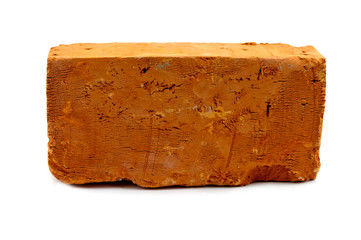brick: (49, 47, 318, 182)
